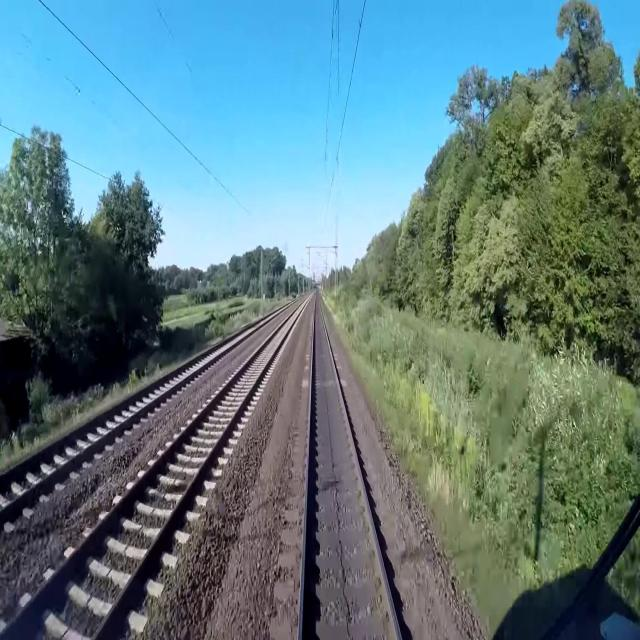rail-track: (303, 295, 399, 639)
